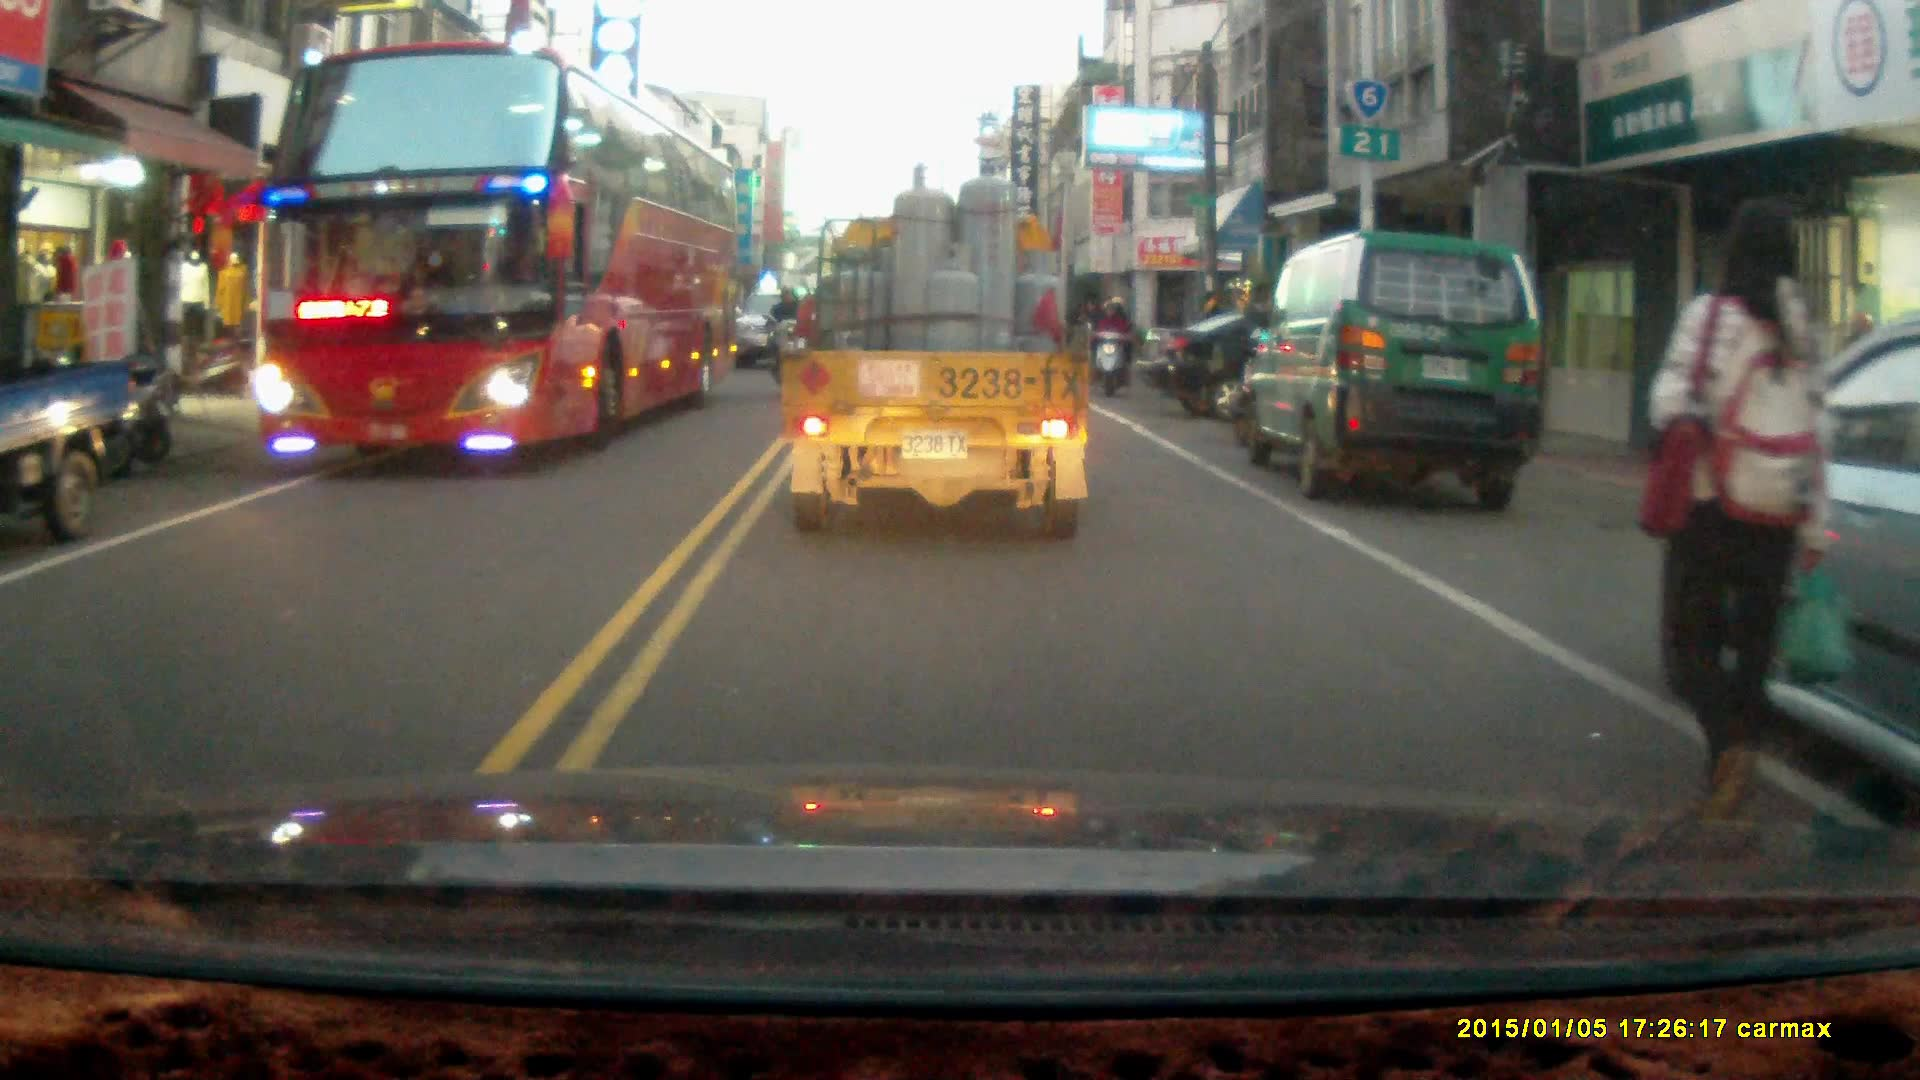pedestrian: (1641, 192, 1834, 833)
rider: (759, 286, 822, 405), (1087, 293, 1135, 395)
vehicle: (252, 43, 746, 464), (786, 154, 1095, 541), (1245, 227, 1546, 505), (1134, 304, 1445, 415), (1, 357, 140, 545), (725, 292, 845, 377)
